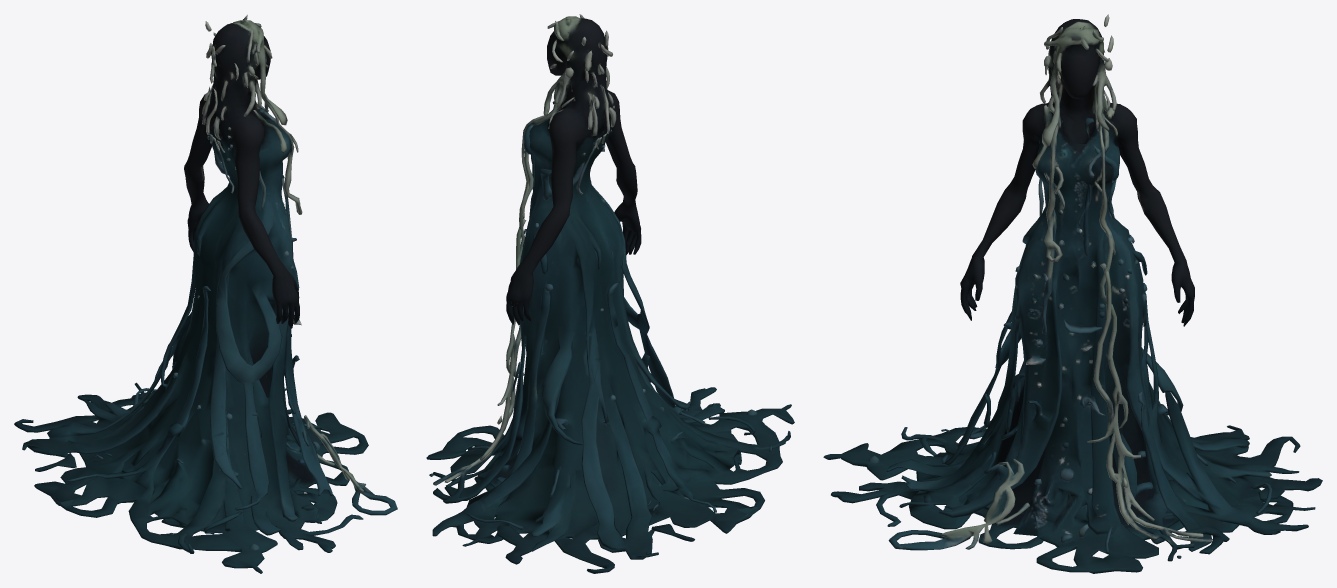
3 renders of one model, left to right at view 1: azimuth 30°, elevation 25°; view 2: azimuth 150°, elevation 25°; view 3: azimuth 270°, elevation 25°, orthographic. The views are drawn at different scales.
Parts seen in each view (by area): view 1: tripo_node_8f9acebf-5fa1-4e65-a2cc-b0e416ea2c0b; view 2: tripo_node_8f9acebf-5fa1-4e65-a2cc-b0e416ea2c0b; view 3: tripo_node_8f9acebf-5fa1-4e65-a2cc-b0e416ea2c0b.
Boxes of the visible parts, bbox=[...] form: tripo_node_8f9acebf-5fa1-4e65-a2cc-b0e416ea2c0b: bbox=[14, 14, 397, 573]; tripo_node_8f9acebf-5fa1-4e65-a2cc-b0e416ea2c0b: bbox=[426, 14, 794, 573]; tripo_node_8f9acebf-5fa1-4e65-a2cc-b0e416ea2c0b: bbox=[823, 14, 1322, 573].
Size of the model in its own units: 0.7025 by 1 by 0.9256.
Materials: 1 (1 with a texture image).
